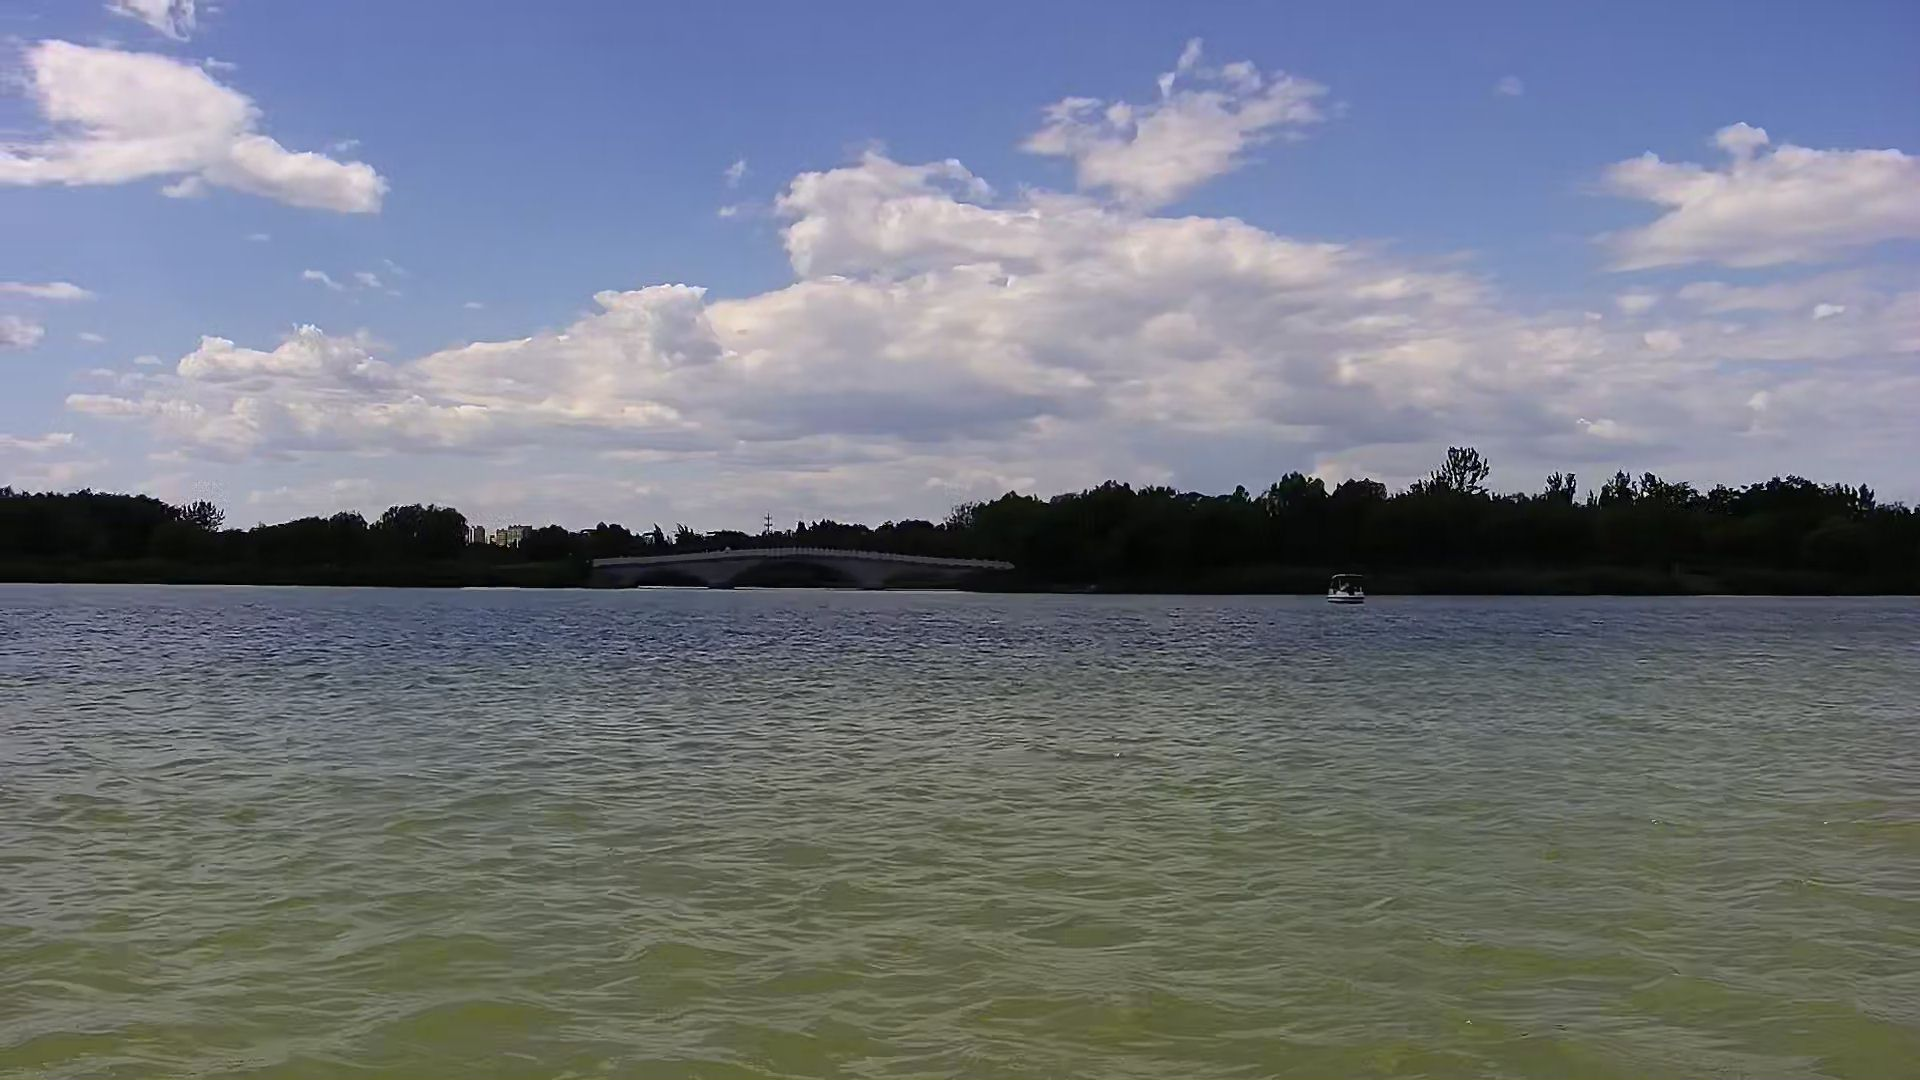boat: (1323, 564, 1371, 608)
bridge: (588, 538, 1026, 592)
